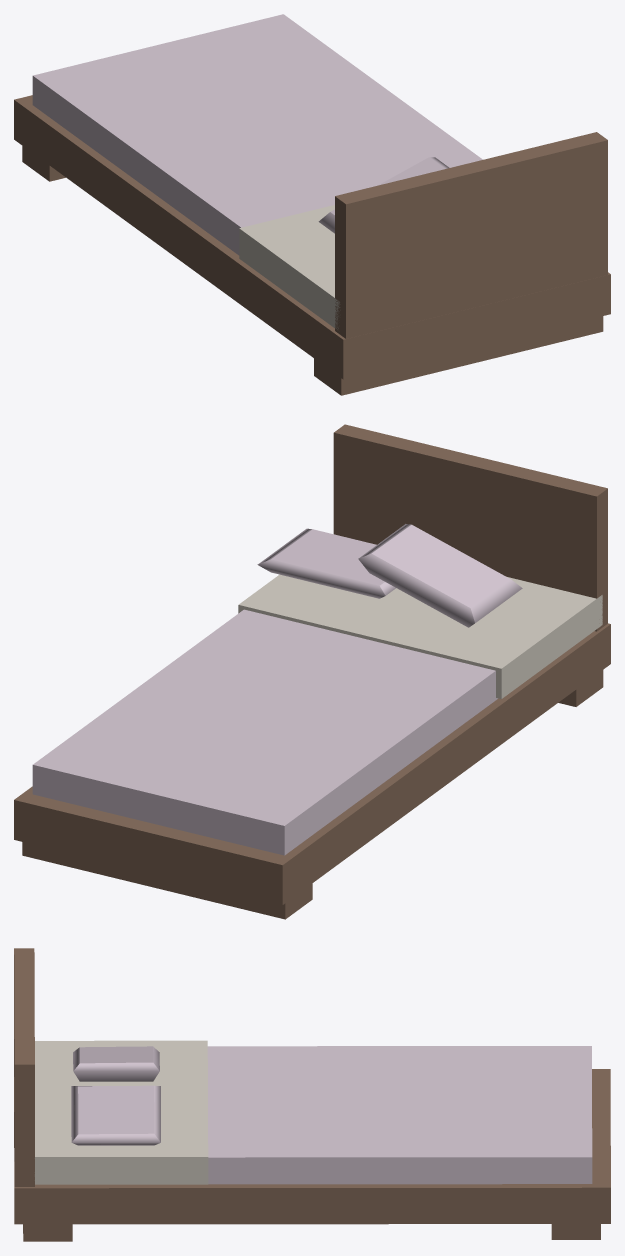
File: Bed.fbx
The picture shows the model from 3 angles, top to bottom: view 1: azimuth 30°, elevation 25°; view 2: azimuth 150°, elevation 25°; view 3: azimuth 270°, elevation 25°; orthographic projection. The views are drawn at different scales.
Visible parts, largest first — view 1: Bed; view 2: Bed; view 3: Bed.
Boxes of the visible parts, x1=… form: Bed: x1=14, y1=14, x2=610, y2=395; Bed: x1=14, y1=424, x2=610, y2=919; Bed: x1=14, y1=948, x2=610, y2=1241.
Bounding box in the file's own units: 93.56 × 63.87 × 195.
